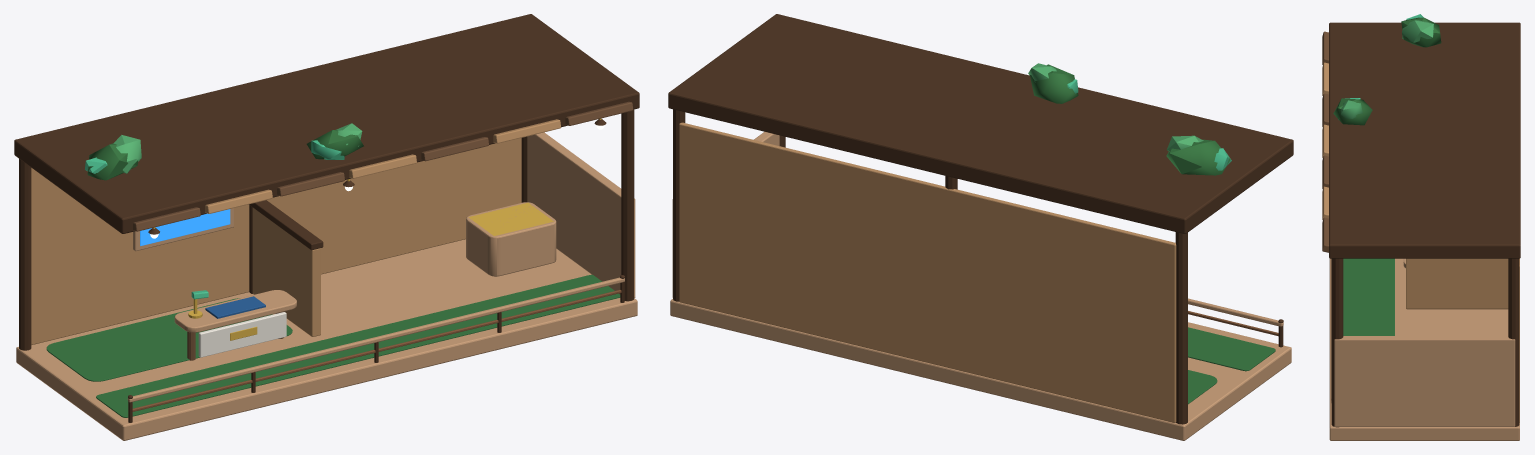
Rendered from WallHabitat_ManagerLookout.fbx.
The picture shows the model from 3 angles, left to right: view 1: azimuth 30°, elevation 25°; view 2: azimuth 150°, elevation 25°; view 3: azimuth 270°, elevation 25°; orthographic projection. The views are drawn at different scales.
Parts seen in each view (by area): view 1: WallHabitat_ManagerLookout_Structure, WallHabitat_ManagerLookout_Accents; view 2: WallHabitat_ManagerLookout_Structure; view 3: WallHabitat_ManagerLookout_Structure.
Part boxes in pixels (x1,y1,x2,y2): WallHabitat_ManagerLookout_Structure: (14,14,639,440); WallHabitat_ManagerLookout_Accents: (140,125,604,340); WallHabitat_ManagerLookout_Structure: (668,14,1293,440); WallHabitat_ManagerLookout_Structure: (1322,14,1520,440).
Size of the model in its own units: 67.9 by 31.36 by 25.57.
